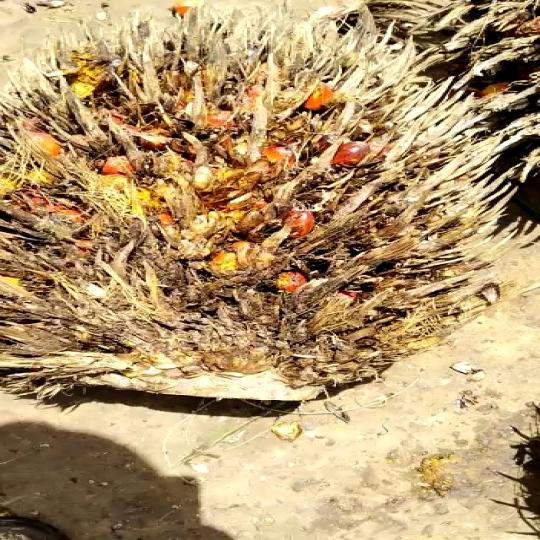terlalu masak: (0, 0, 540, 415)
